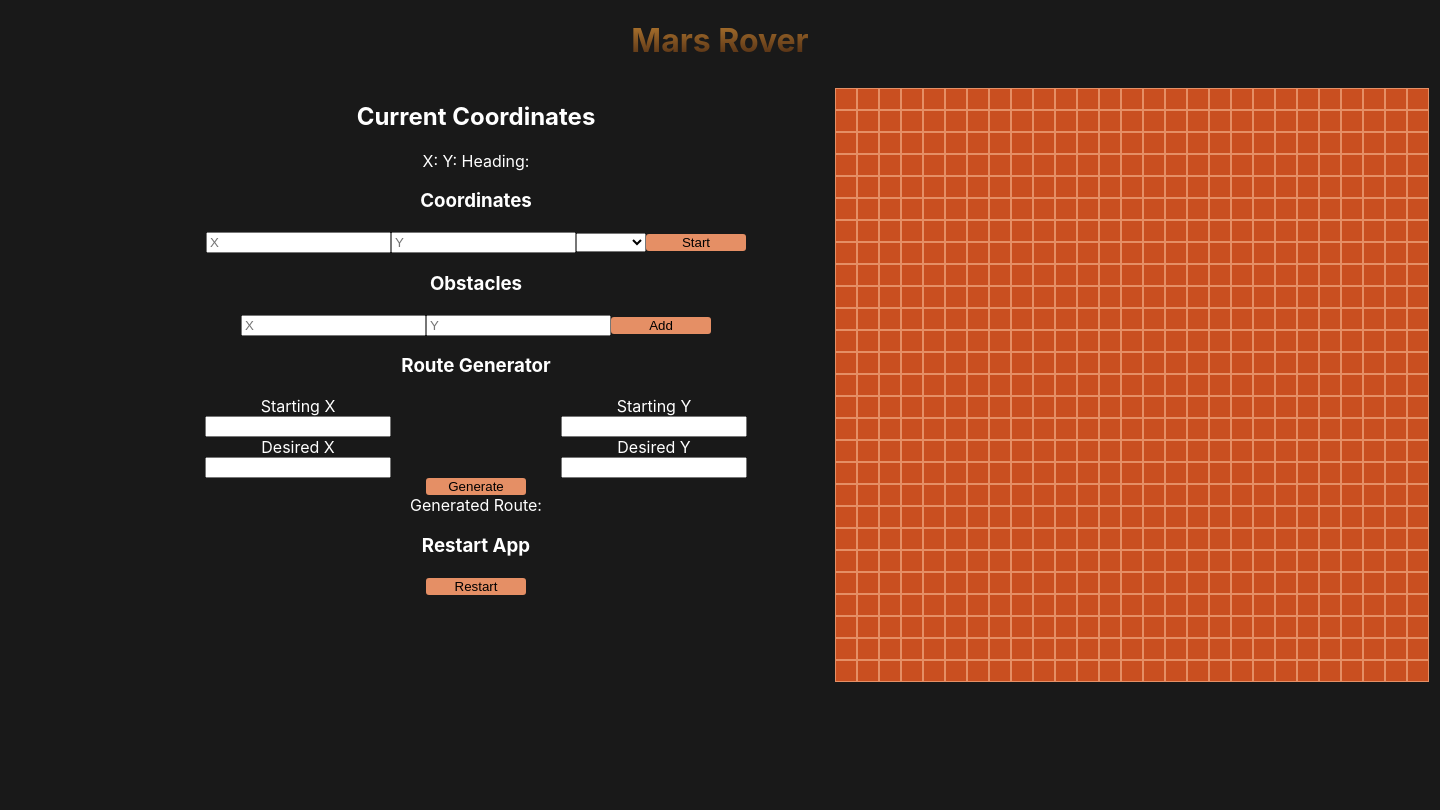
Test: Moving Rover on Mars
Select "NORTH" in the dropdown with test id "heading": {"x": 611, "y": 243} [576,233,646,252]
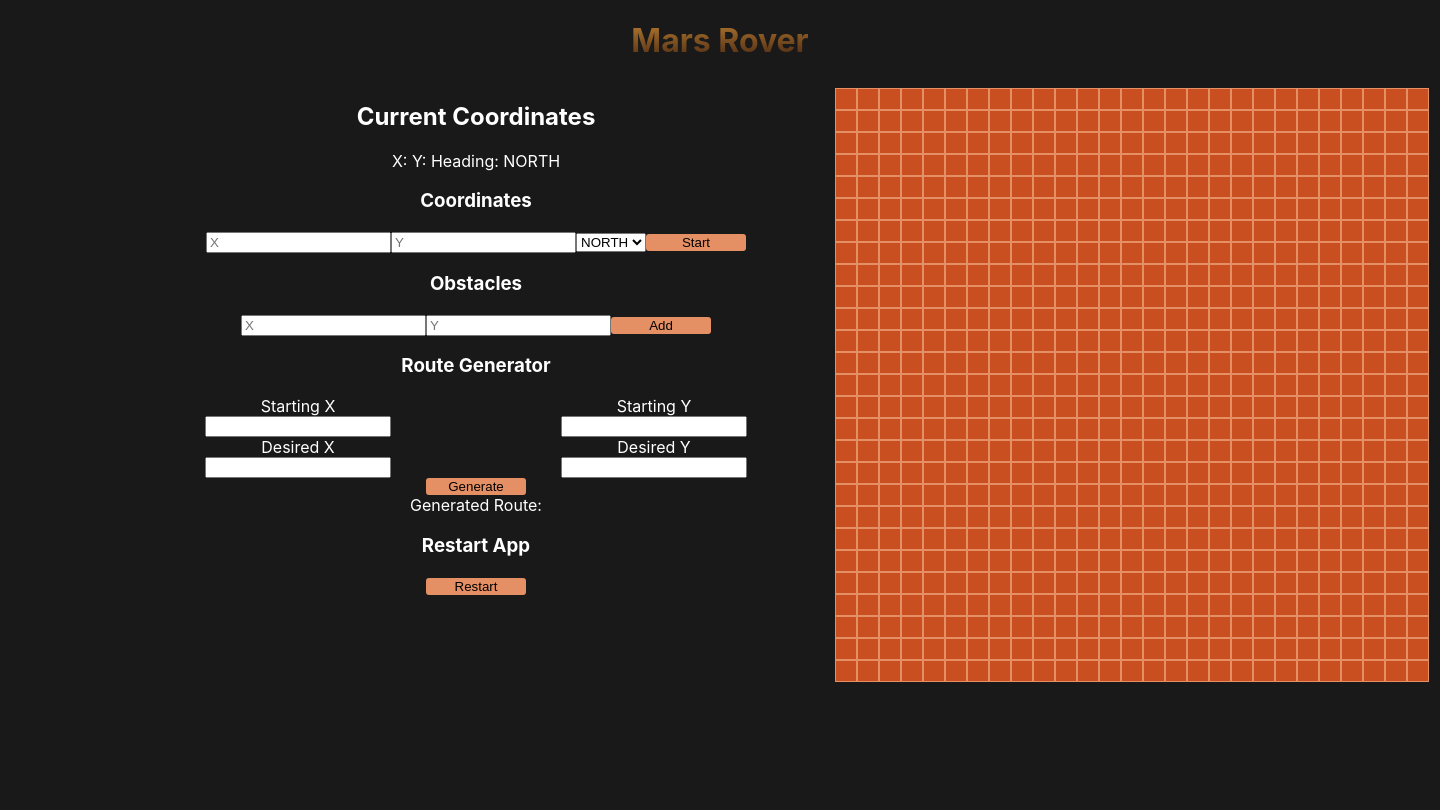
In the number field with test id "xCoordinates": {"x": 298, "y": 243} [206,232,391,253], type "5"
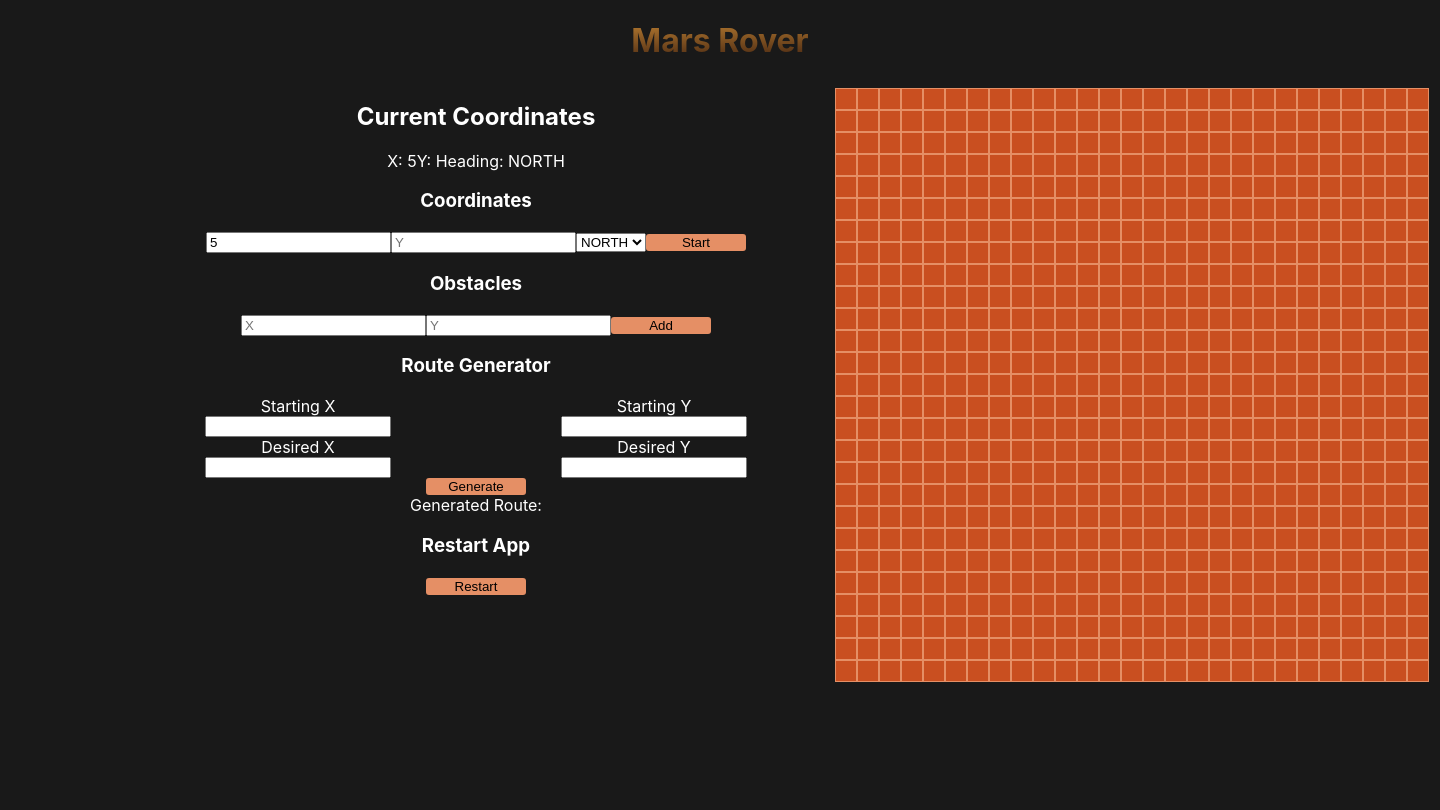
In the number field with test id "yCoordinates": {"x": 484, "y": 243} [391,232,576,253], type "5"
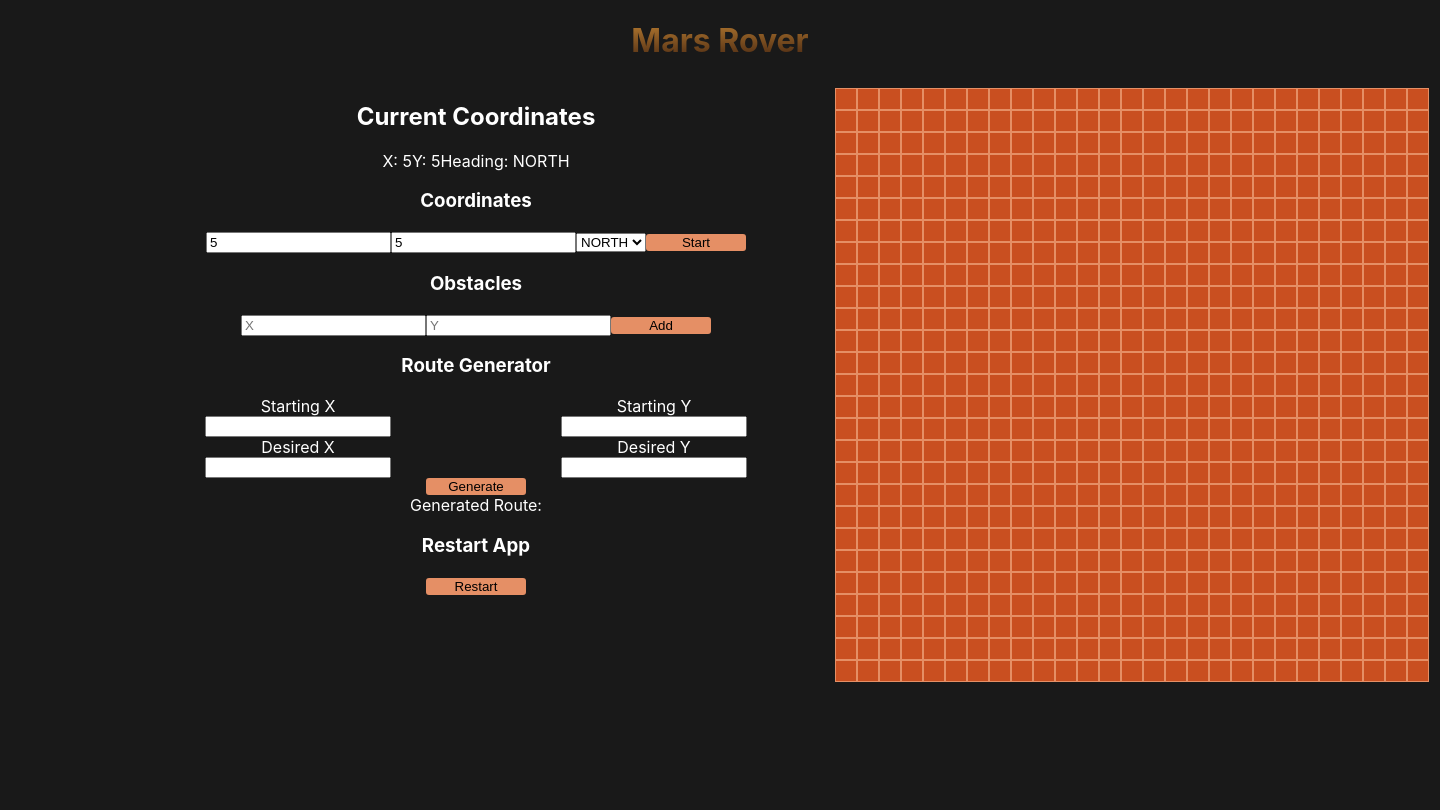
Click the button with test id "launch": {"x": 696, "y": 243} [646,234,746,251]
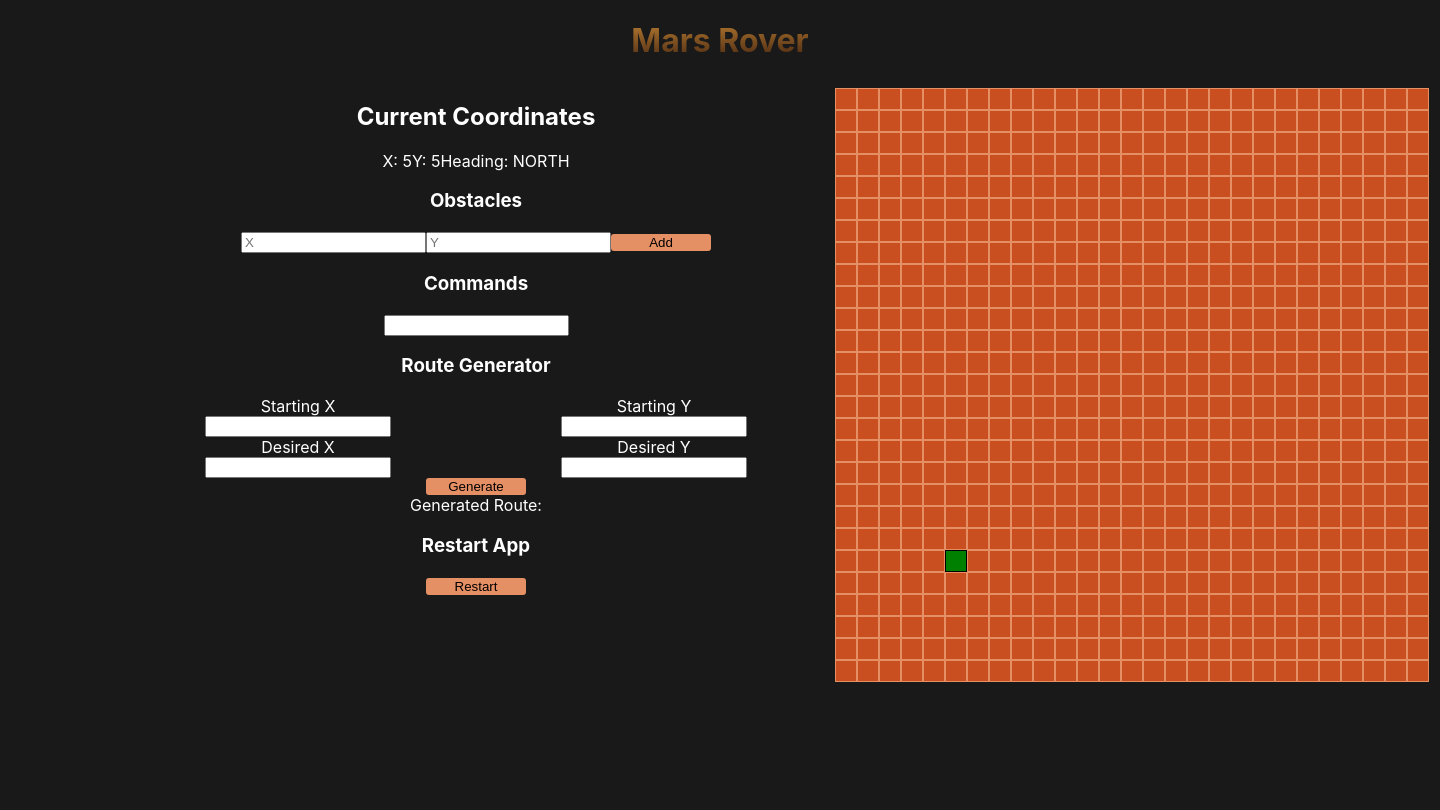
Now the text with test id "roverX" reads "X: 5", box [382,151,412,171]
Now the text with test id "roverHeading" reads "Heading: NORTH", box [440,151,570,171]
In the field with test id "commandsInput": {"x": 476, "y": 325} [384,315,568,336], type "ffff"
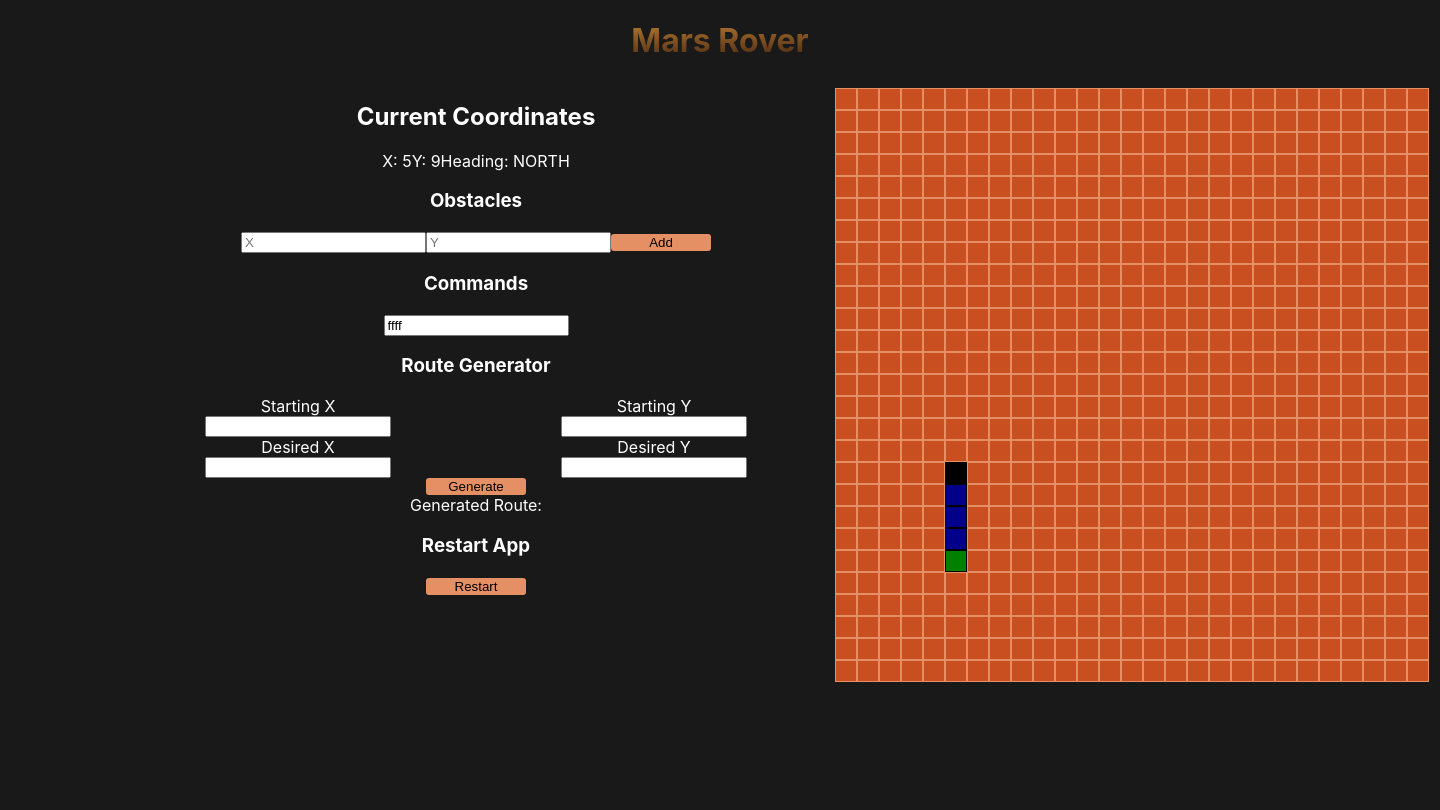
Now the text with test id "roverX" reads "X: 5", box [382,151,412,171]
Now the text with test id "roverHeading" reads "Heading: NORTH", box [441,151,570,171]
Now the text with test id "roverY" reads "Y: 9", box [412,151,441,171]
